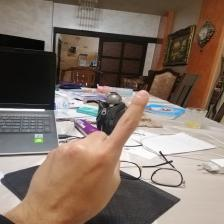one: (35, 89, 151, 212)
